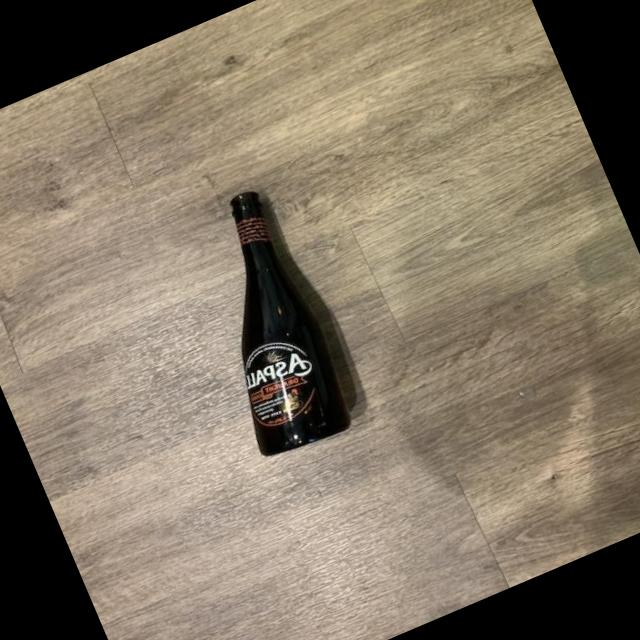BotolKaca: (162, 184, 362, 466)
